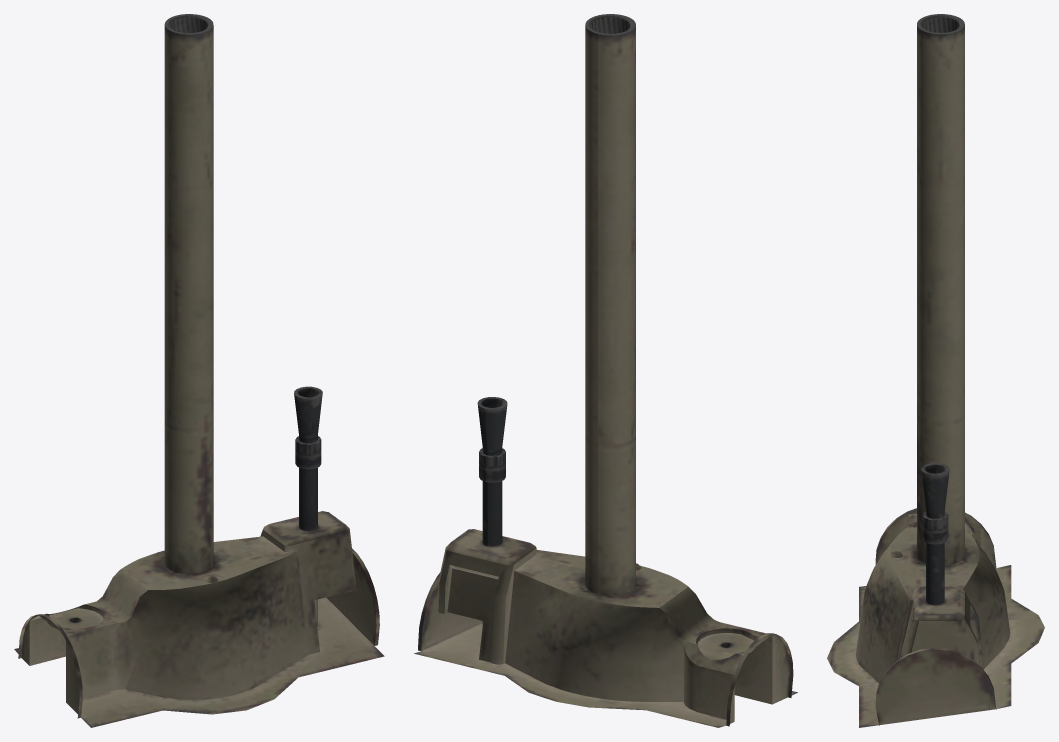
The model's file is Gun_03.glb.
3 views of the same model, side by side, from view 1: azimuth 30°, elevation 25°; view 2: azimuth 150°, elevation 25°; view 3: azimuth 270°, elevation 25° (orthographic). The views are drawn at different scales.
Parts seen in each view (by area): view 1: set_0_group_0; view 2: set_0_group_0; view 3: set_0_group_0.
Boxes of the visible parts, x1,y1,x2,y2 form: set_0_group_0: [14, 14, 384, 727]; set_0_group_0: [414, 14, 797, 727]; set_0_group_0: [827, 14, 1044, 727].
Bounding box in the file's own units: 0.6936 × 1.42 × 0.4427.
1 material, 1 textured.
